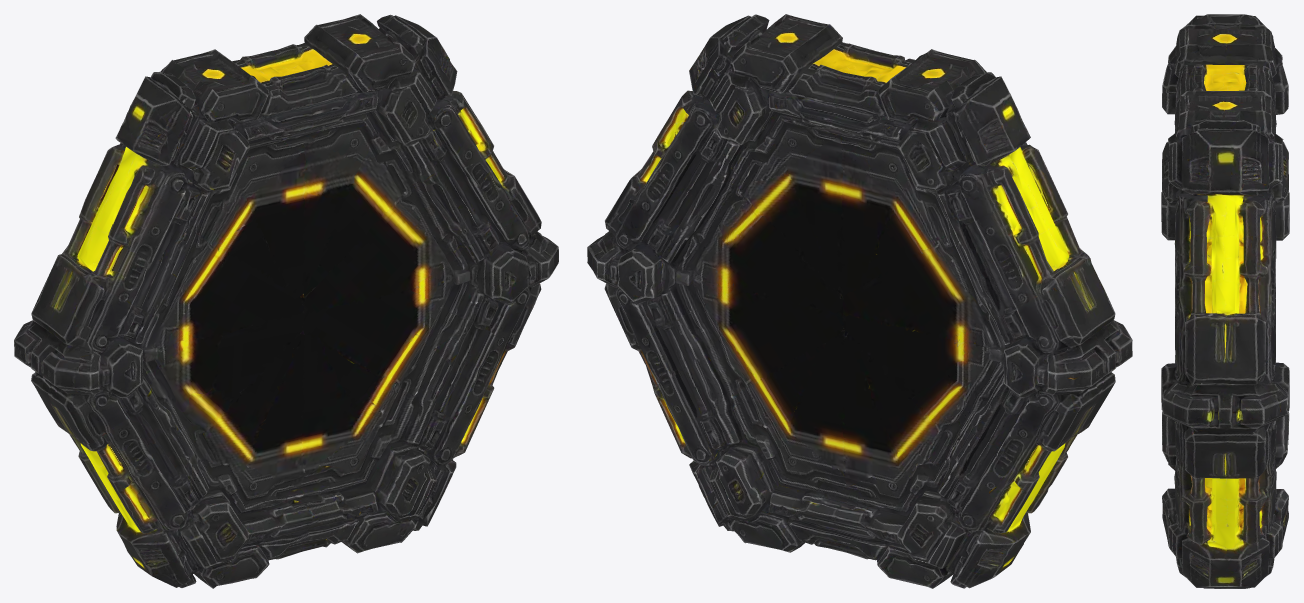
Rendered from node_tech_yellow.glb.
3 renders of one model, left to right at view 1: azimuth 30°, elevation 25°; view 2: azimuth 150°, elevation 25°; view 3: azimuth 270°, elevation 25°, orthographic. The views are drawn at different scales.
Size of the model in its own units: 2 by 1.9 by 0.4704.
1 material, 1 textured.
